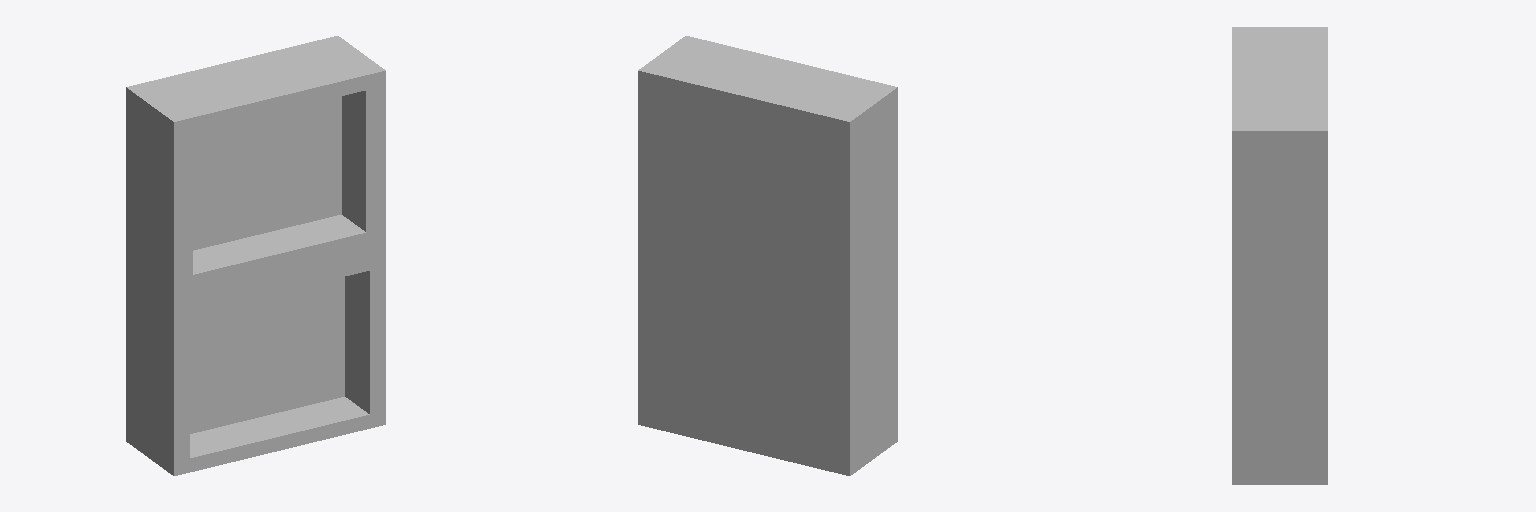
File: NaturalHistory_Shelflarge.obj
The picture shows the model from 3 angles: view 1: azimuth 30°, elevation 25°; view 2: azimuth 150°, elevation 25°; view 3: azimuth 270°, elevation 25°; orthographic projection.
Parts seen in each view (by area): view 1: ShelfLarge; view 2: ShelfLarge; view 3: ShelfLarge.
Part boxes in pixels (left/top/right/bottom): ShelfLarge: left=126, top=36, right=385, bottom=475; ShelfLarge: left=638, top=36, right=897, bottom=475; ShelfLarge: left=1232, top=27, right=1327, bottom=484.
Bounding box in the file's own units: 19.85 × 31.7 × 7.76.